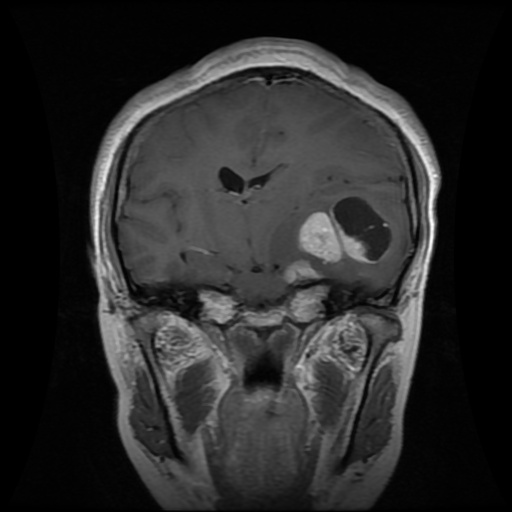meningioma: (300, 197, 392, 263)
